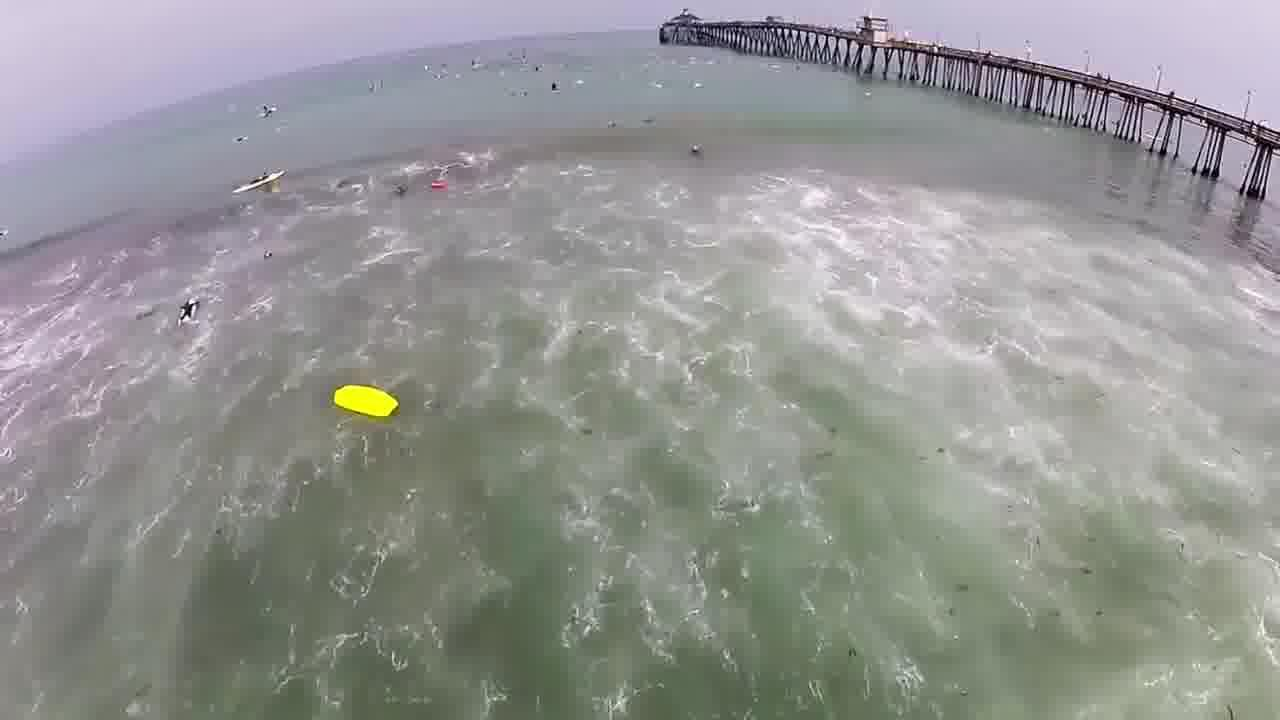human: (166, 287, 214, 324)
